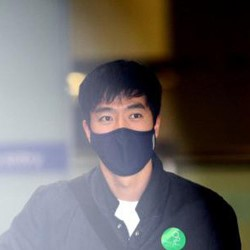mask: (80, 120, 158, 180)
